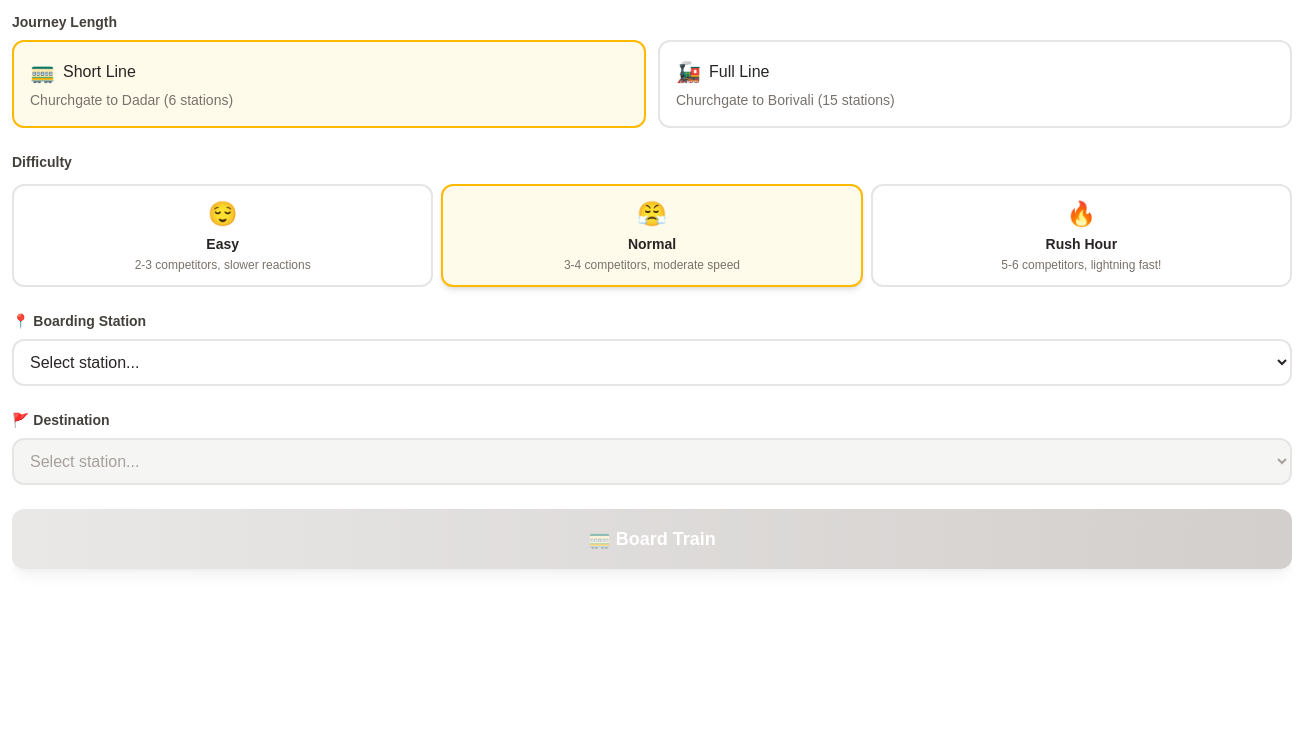
Scenario: StationSelectForm › boarding station selection › enables destination dropdown after selecting boarding station
Select "Churchgate" in the dropdown labelled "📍 Boarding Station". click: (652, 362)
box: [12,339,1292,386]
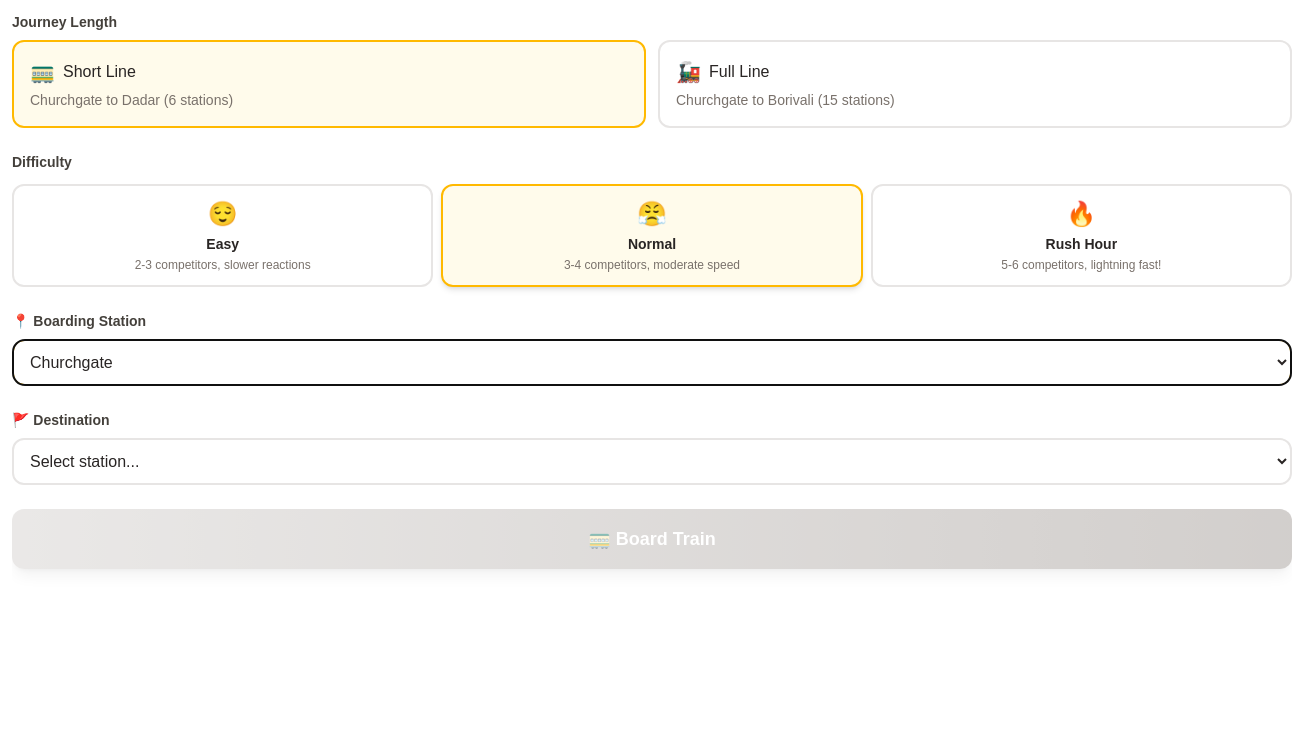
Check: the dropdown labelled "🚩 Destination" is enabled, box [12,438,1292,485]
